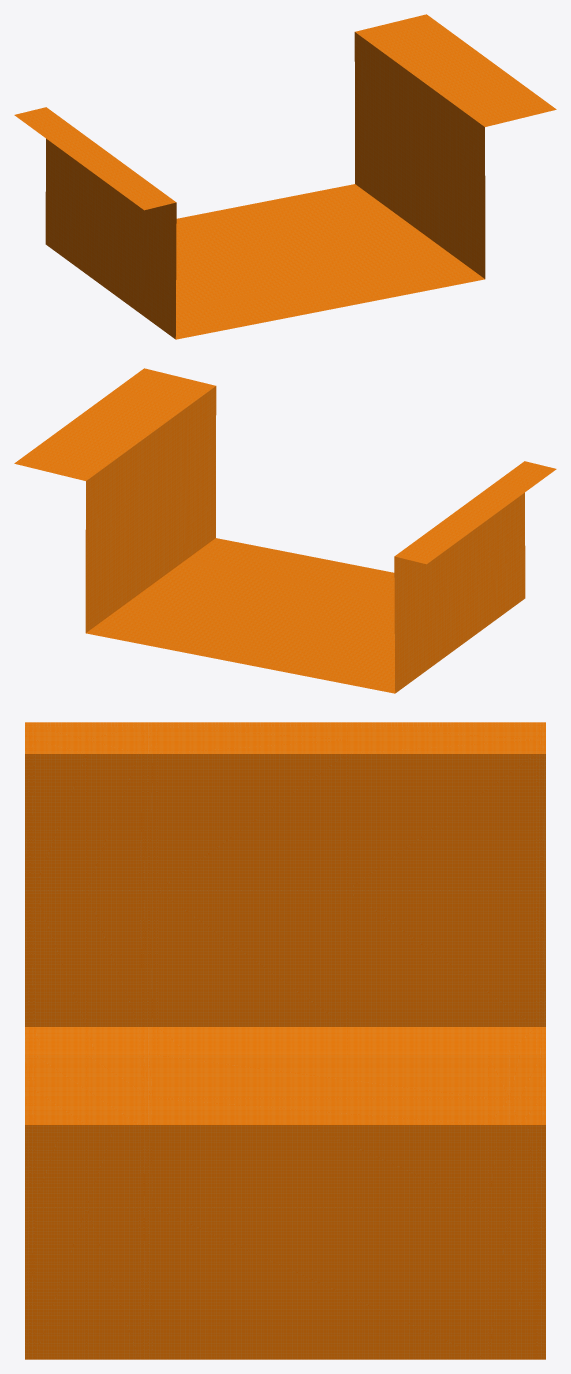
Rendered from Floor.fbx.
The picture shows the model from 3 angles, top to bottom: view 1: azimuth 30°, elevation 25°; view 2: azimuth 150°, elevation 25°; view 3: azimuth 270°, elevation 25°; orthographic projection. The views are drawn at different scales.
Parts seen in each view (by area): view 1: Floor; view 2: Floor; view 3: Floor.
Boxes of the visible parts, left/top/right/bottom form: Floor: left=14, top=14, right=556, bottom=339; Floor: left=14, top=368, right=556, bottom=693; Floor: left=25, top=722, right=545, bottom=1359.
Bounding box in the file's own units: 8510 × 3000 × 4653.
Materials: 1 (1 with a texture image).
